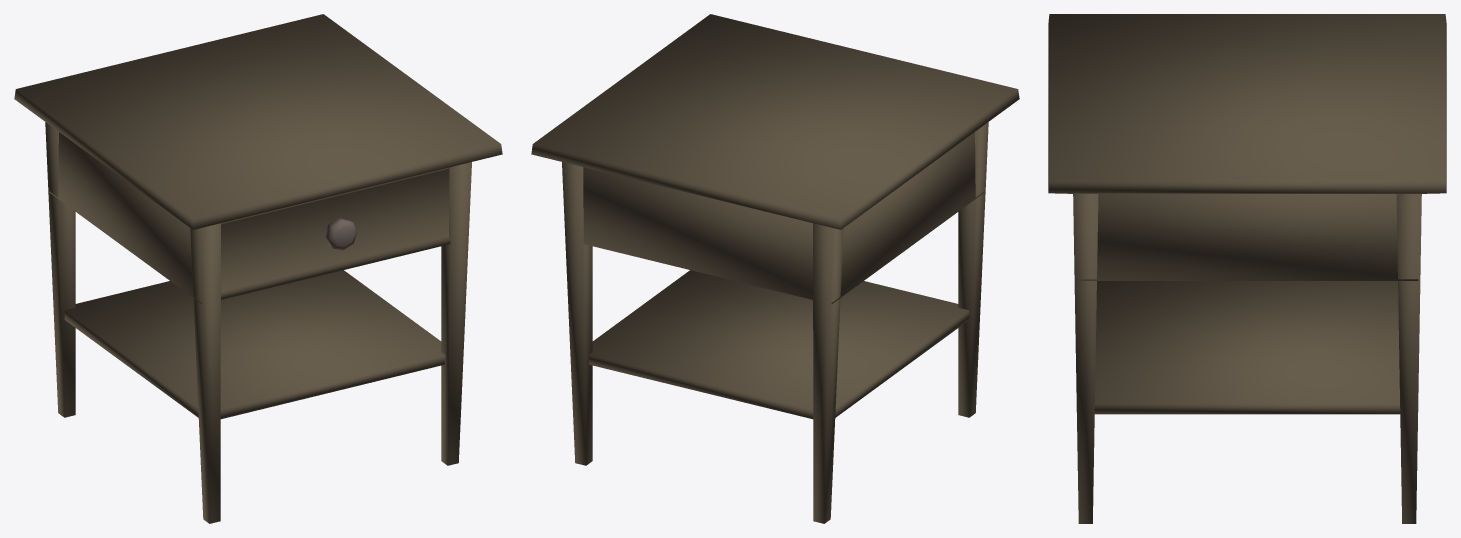
File: NightStand_2.glb
3 views of the same model, side by side, from view 1: azimuth 30°, elevation 25°; view 2: azimuth 150°, elevation 25°; view 3: azimuth 270°, elevation 25° (orthographic). The views are drawn at different scales.
Parts seen in each view (by area): view 1: NightStand_2; view 2: NightStand_2; view 3: NightStand_2.
Boxes of the visible parts, x1,y1,x2,y2 form: NightStand_2: [14, 14, 502, 523]; NightStand_2: [531, 14, 1019, 523]; NightStand_2: [1048, 14, 1446, 523].
Size of the model in its own units: 0.9522 by 0.9453 by 0.9522.
